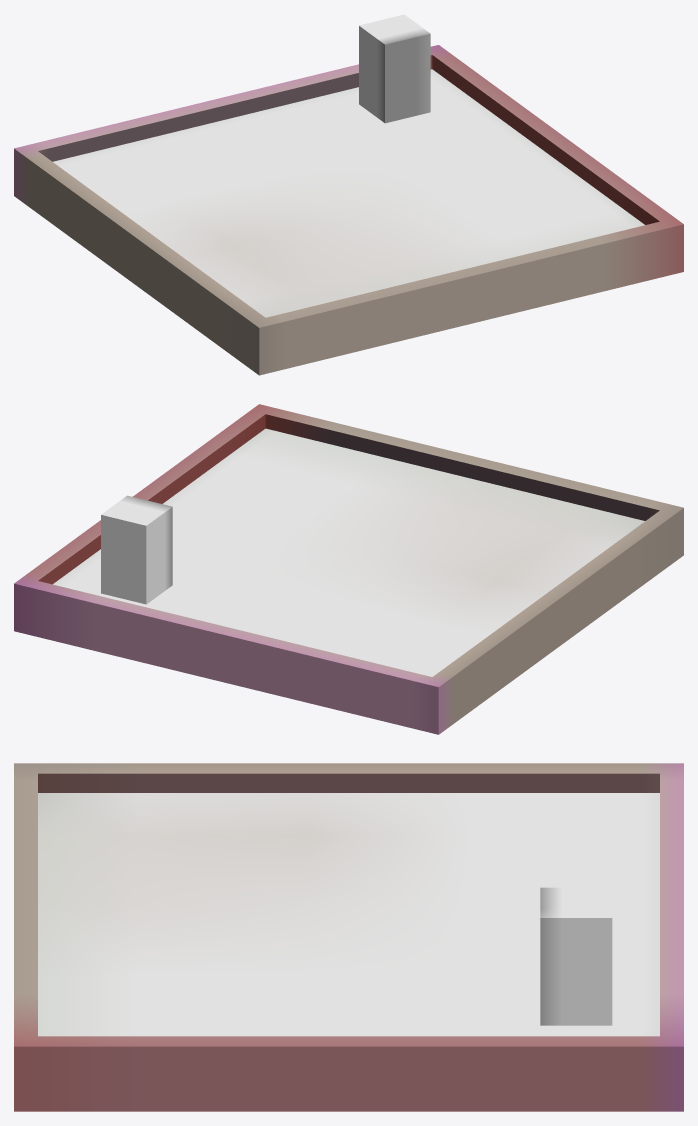
The model's file is SiloBase.Empty.glb.
The picture shows the model from 3 angles, top to bottom: view 1: azimuth 30°, elevation 25°; view 2: azimuth 150°, elevation 25°; view 3: azimuth 270°, elevation 25°; orthographic projection. The views are drawn at different scales.
Visible parts, largest first — view 1: SiloBase.Empty; view 2: SiloBase.Empty; view 3: SiloBase.Empty.
Part boxes in pixels (x1=…): SiloBase.Empty: x1=14, y1=14, x2=683, y2=375; SiloBase.Empty: x1=14, y1=404, x2=683, y2=734; SiloBase.Empty: x1=14, y1=763, x2=683, y2=1111.
Size of the model in its own units: 2.8 by 0.7057 by 2.8.
Materials: 1 (1 with a texture image).
